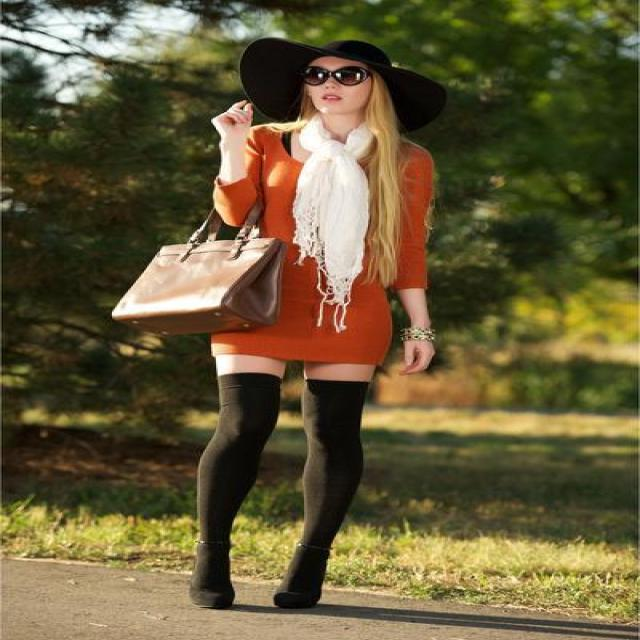bag: (112, 220, 282, 349)
hat: (230, 39, 448, 134)
jacket: (211, 127, 435, 369)
shoe: (200, 569, 325, 612)
